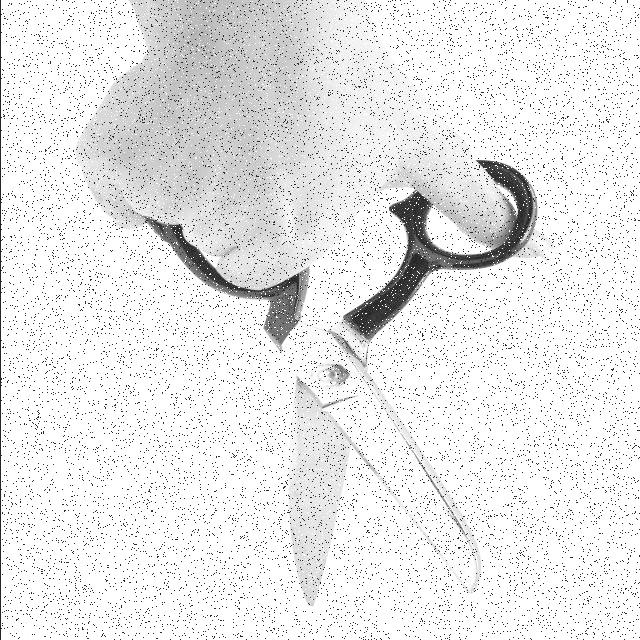scissors: (135, 144, 543, 610)
